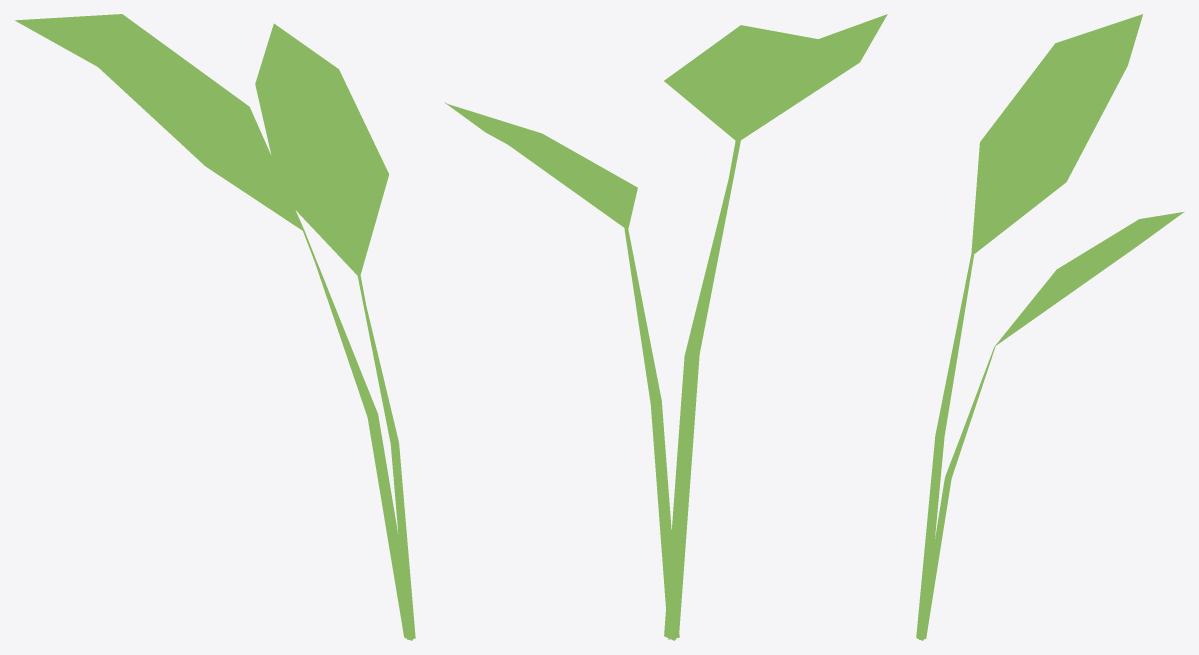
Rendered from Plant_j_OneS_02.fbx.
3 renders of one model, left to right at view 1: azimuth 30°, elevation 25°; view 2: azimuth 150°, elevation 25°; view 3: azimuth 270°, elevation 25°, orthographic. The views are drawn at different scales.
Parts seen in each view (by area): view 1: Plant_j_OneS_02; view 2: Plant_j_OneS_02; view 3: Plant_j_OneS_02.
Part boxes in pixels (box(x1,y1,x2,y2)): Plant_j_OneS_02: box(15, 14, 415, 640); Plant_j_OneS_02: box(444, 14, 887, 640); Plant_j_OneS_02: box(916, 14, 1184, 640).
Size of the model in its own units: 0.3007 by 0.5339 by 0.2542.
